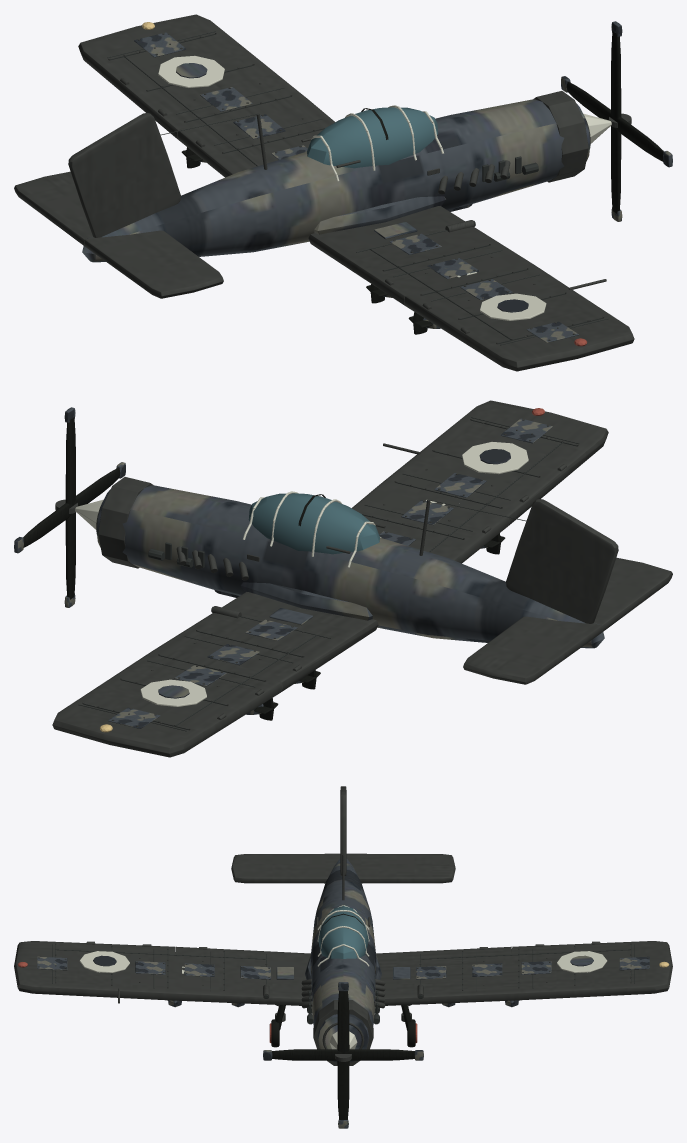
File: plane_enemy.glb
The picture shows the model from 3 angles, top to bottom: view 1: azimuth 30°, elevation 25°; view 2: azimuth 150°, elevation 25°; view 3: azimuth 270°, elevation 25°; orthographic projection. The views are drawn at different scales.
Parts seen in each view (by area): view 1: part, V2 field detail • vehicles/plane_enemy, part.001, Premium details - vehicles/plane_enemy; view 2: part, V2 field detail • vehicles/plane_enemy, part.001, Premium details - vehicles/plane_enemy; view 3: part, V2 field detail • vehicles/plane_enemy, part.001, Premium details - vehicles/plane_enemy.
Part boxes in pixels (x1,y1,x2,y2): part: [14, 14, 634, 371]; V2 field detail • vehicles/plane_enemy: [108, 32, 606, 344]; part.001: [561, 21, 672, 221]; Premium details - vehicles/plane_enemy: [107, 22, 608, 346]; part: [52, 400, 672, 757]; V2 field detail • vehicles/plane_enemy: [82, 418, 578, 730]; part.001: [14, 407, 125, 607]; Premium details - vehicles/plane_enemy: [78, 408, 579, 732]; part: [14, 786, 672, 1065]; V2 field detail • vehicles/plane_enemy: [37, 817, 649, 1008]; part.001: [263, 982, 423, 1128]; Premium details - vehicles/plane_enemy: [17, 905, 669, 1049].
Size of the model in its own units: 6.85 by 2.58 by 9.39.
8 materials, 3 textured.
